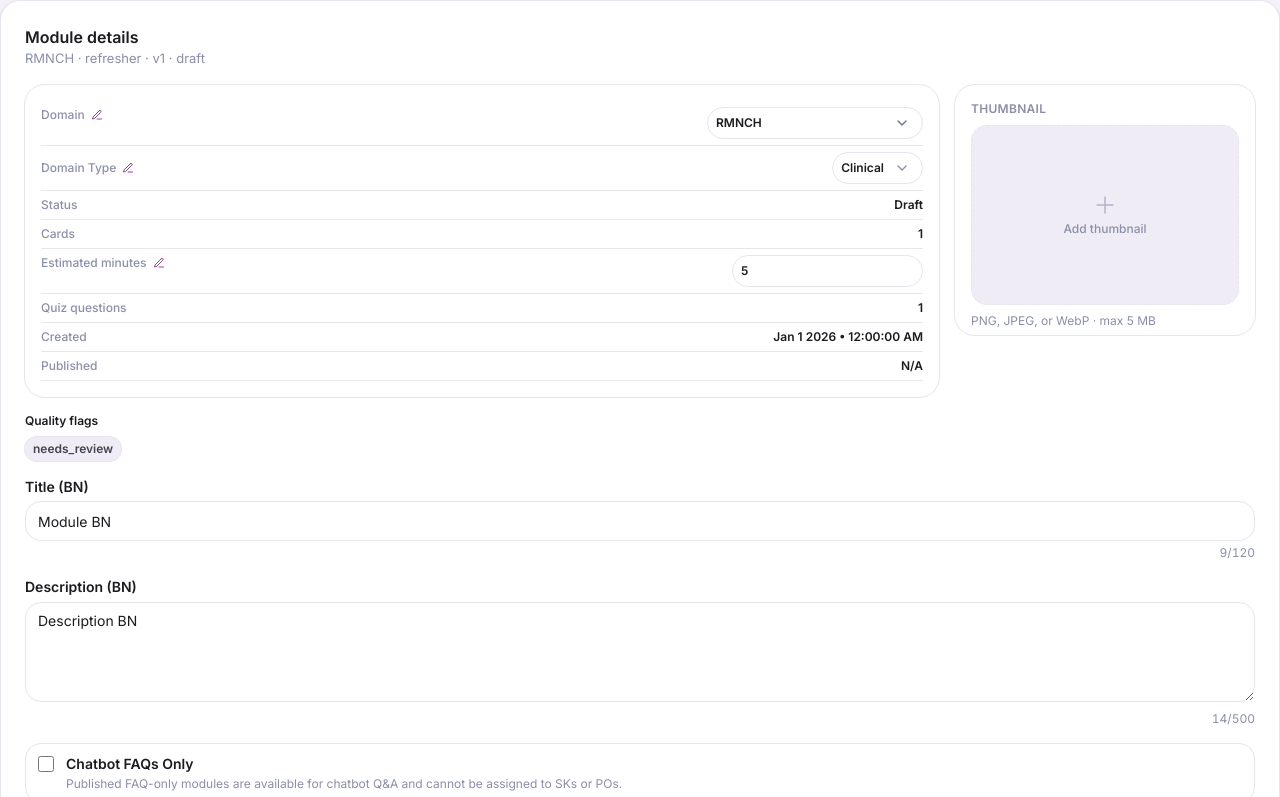
Scenario: AdminModuleDetailsStep › blocks a third digit in estimated minutes
This screenshot has width=1280, height=797.
Replace the text in the field named "estimated minutes" with "999" at [828, 270], box left=732, top=254, right=923, bottom=286
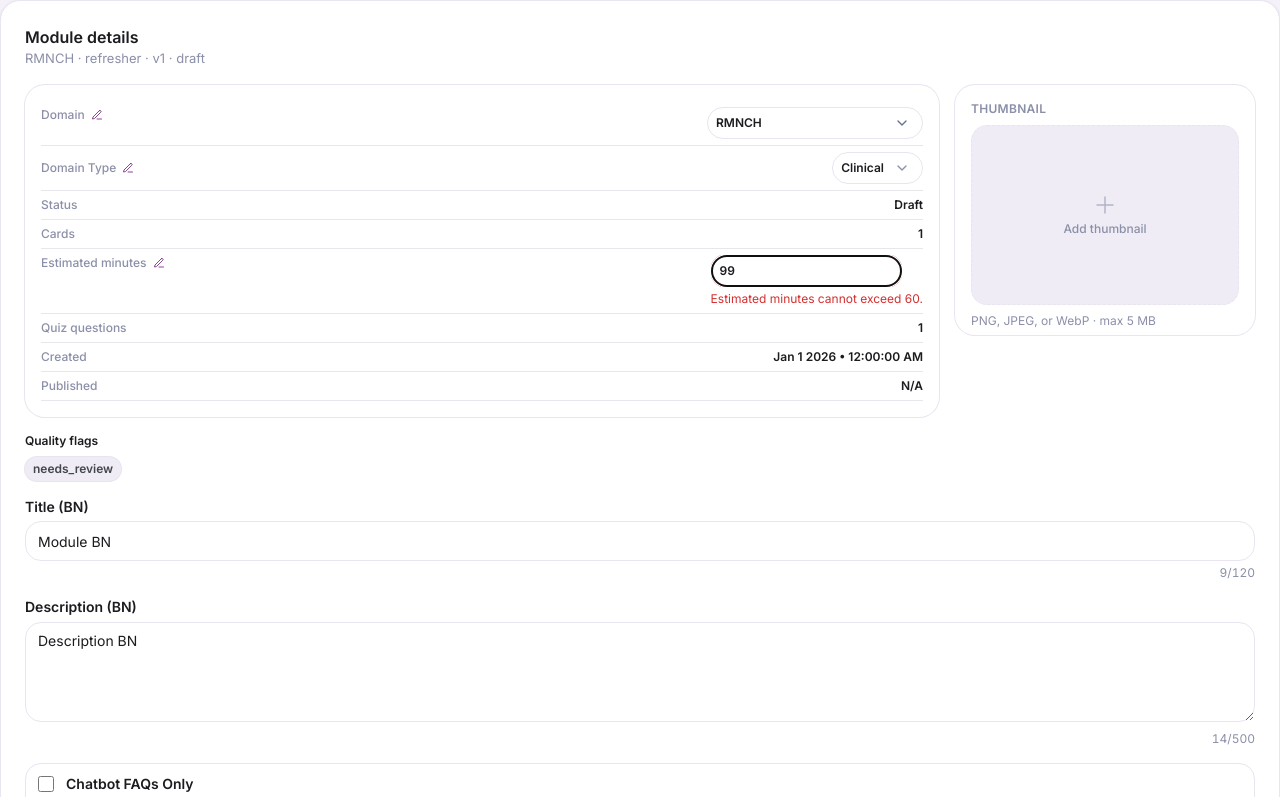
Check: the field named "estimated minutes" holds "99", box left=711, top=254, right=902, bottom=286
Check: the text "Estimated minutes cannot exceed 60." is shown, box left=711, top=290, right=923, bottom=306
